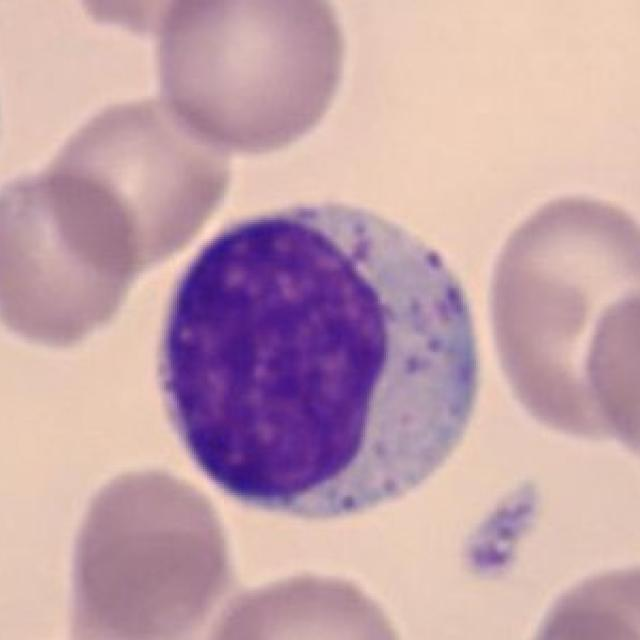WBC: (128, 177, 523, 538)
